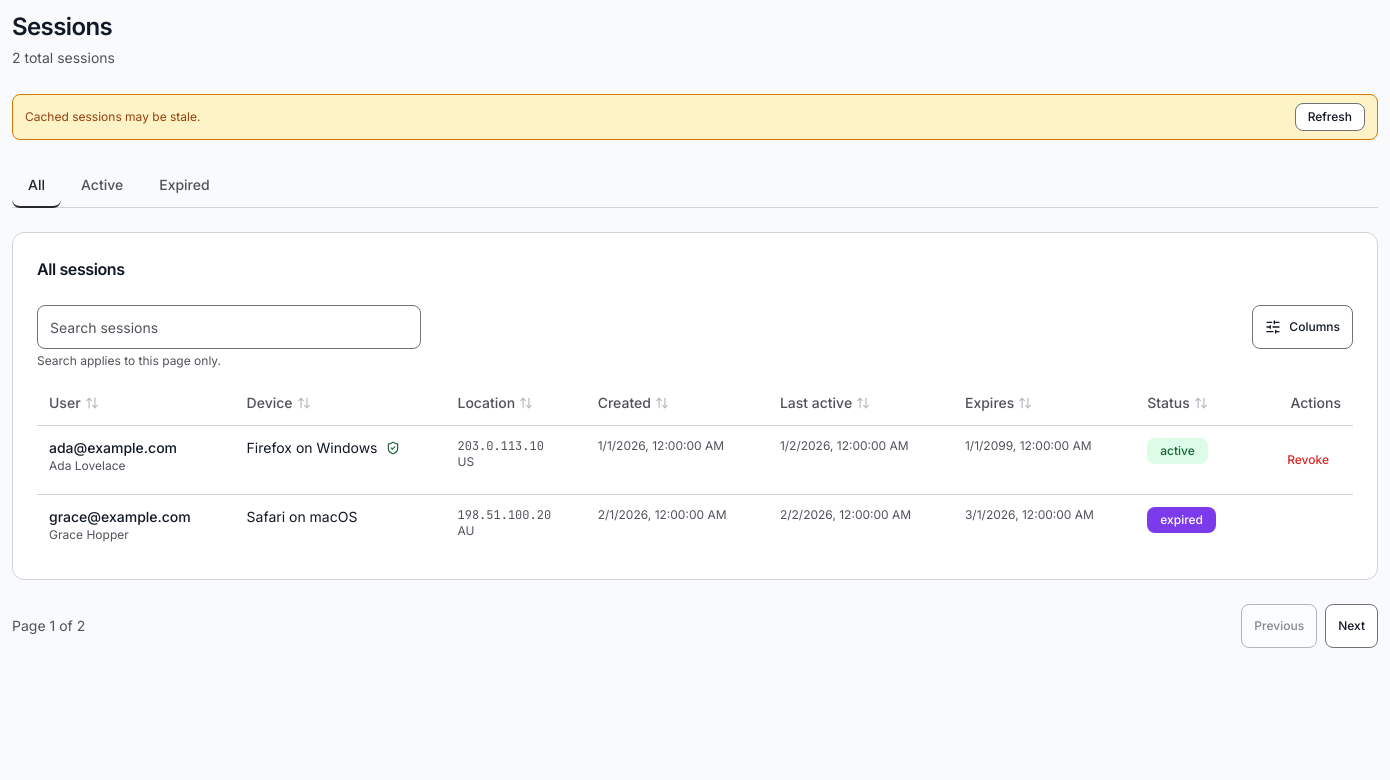
Test: Admin SessionsPage › sorts and hides columns through the shared table controls
Click the button "User": point(74, 403) 49,393 -> 98,413
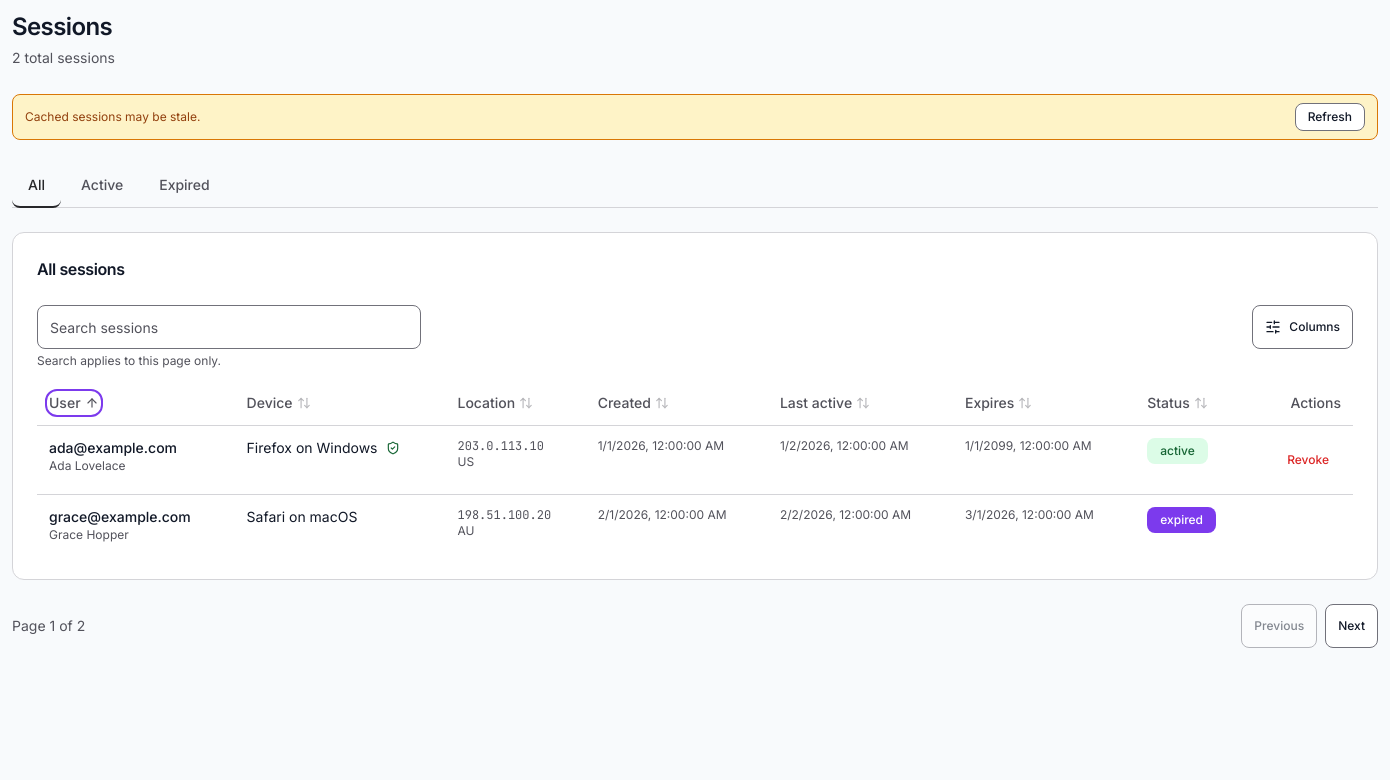
Check: the column heading "User" has attribute aria-sort="ascending", box 37,381 -> 235,425
Click the button "Columns": point(1303, 327) 1252,305 -> 1353,349
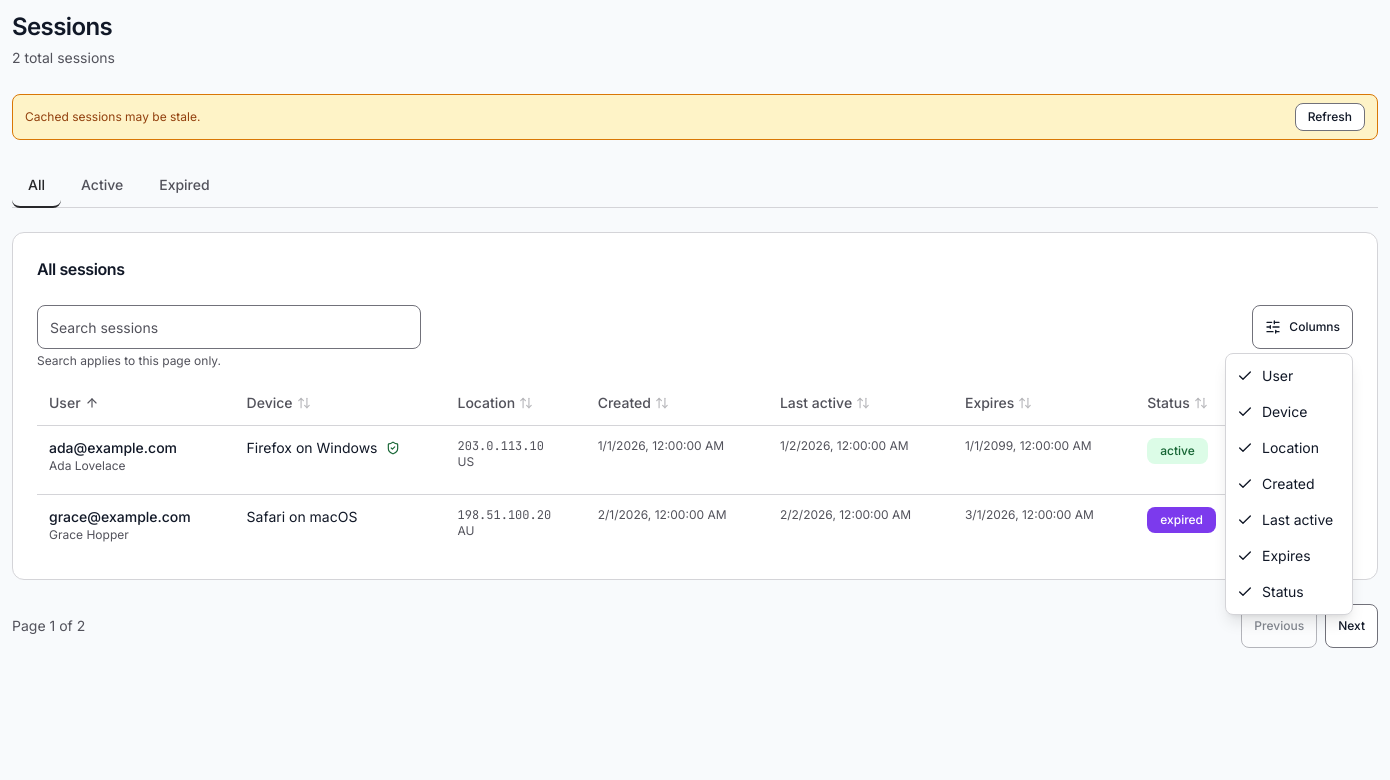
Click the menu item "Location": point(1278, 448) 1237,439 -> 1319,456
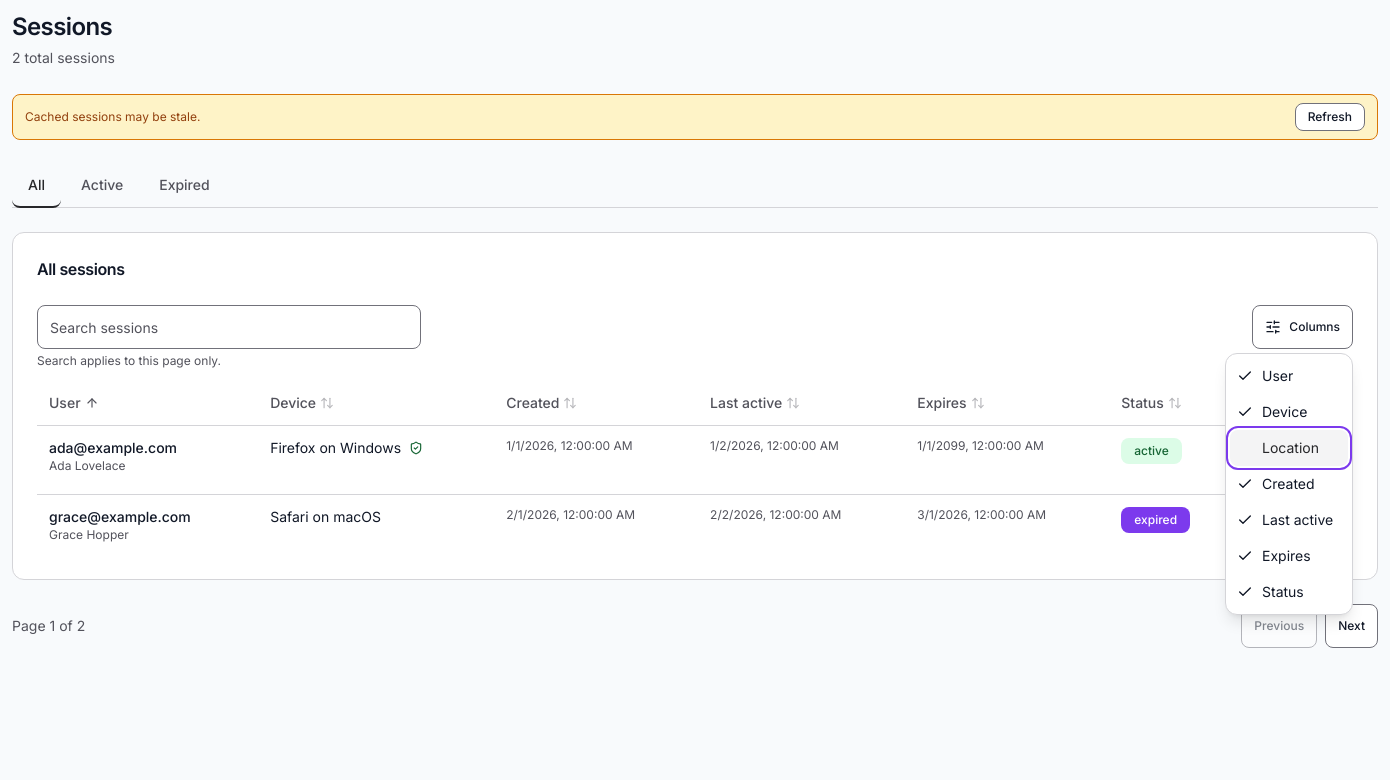
Check: the text "203.0.113.10" is gone
